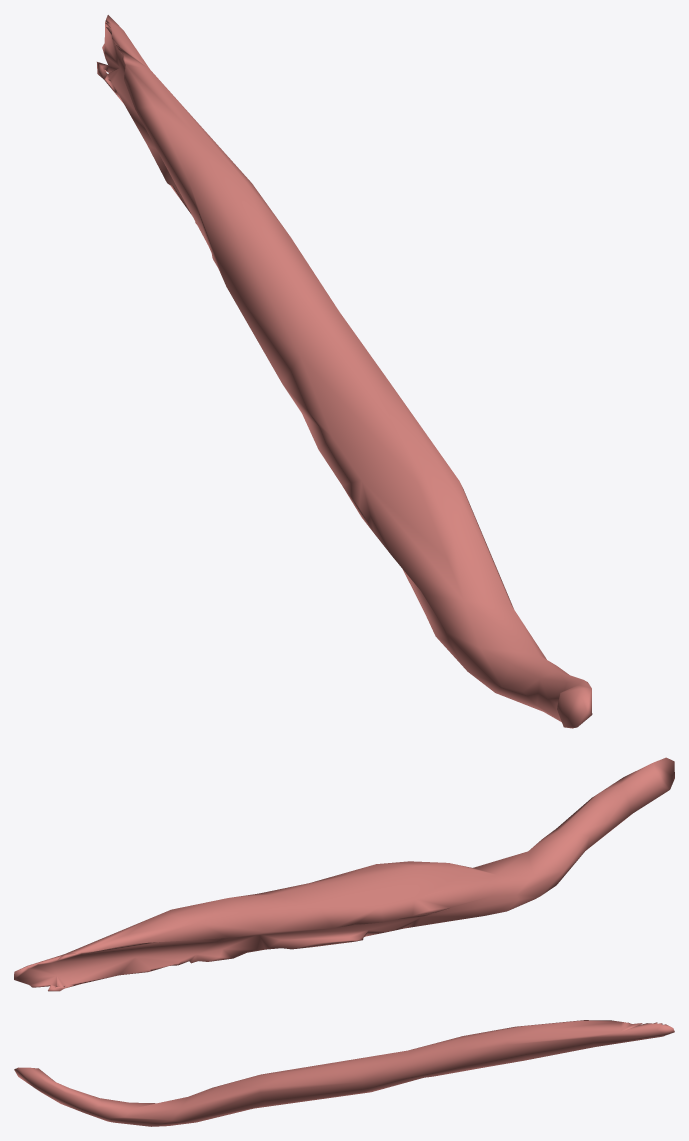
3 views of the same model, one above another, from view 1: azimuth 30°, elevation 25°; view 2: azimuth 150°, elevation 25°; view 3: azimuth 270°, elevation 25° (orthographic). The views are drawn at different scales.
Parts seen in each view (by area): view 1: ZA_879fb706db73549e; view 2: ZA_879fb706db73549e; view 3: ZA_879fb706db73549e.
Part boxes in pixels (box(x1,y1,x2,y2)): ZA_879fb706db73549e: box(97, 15, 592, 728); ZA_879fb706db73549e: box(14, 757, 674, 991); ZA_879fb706db73549e: box(14, 1020, 674, 1126).
Size of the model in its own units: 0.0157 by 0.0202 by 0.094.
